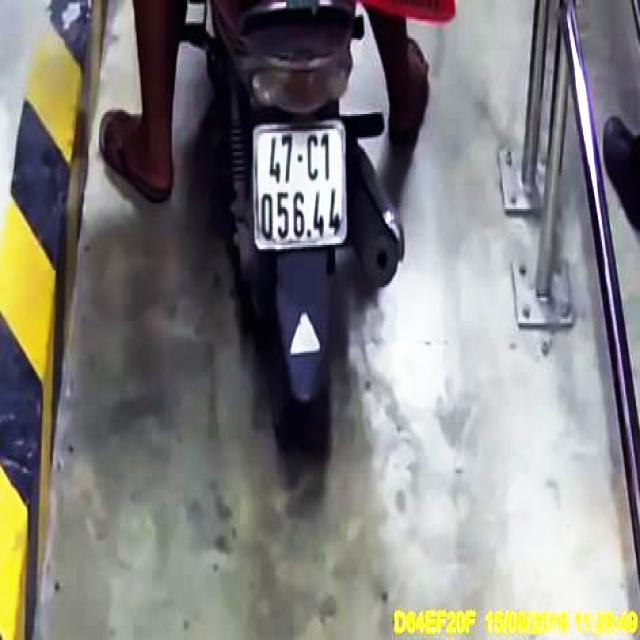license_plate: (256, 124, 348, 253)
